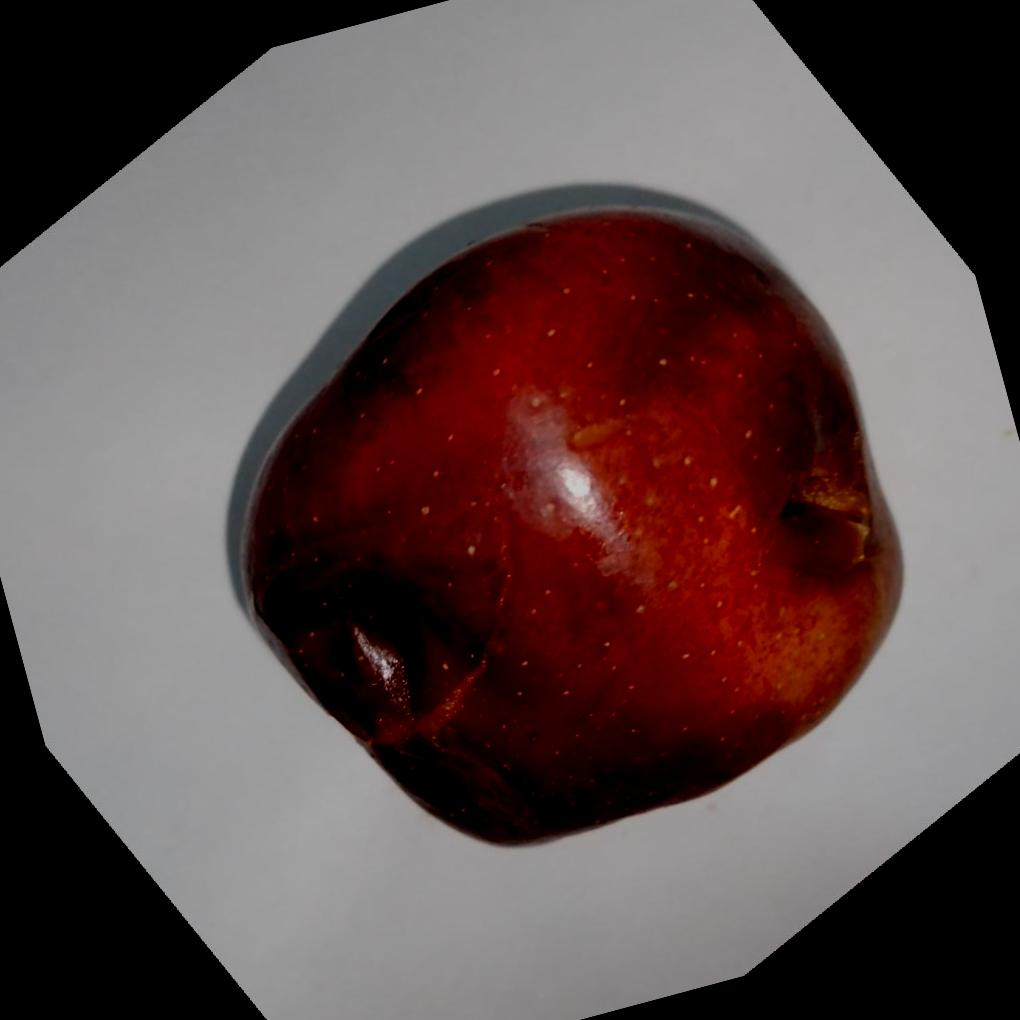FreshOrange: (230, 200, 907, 848)
